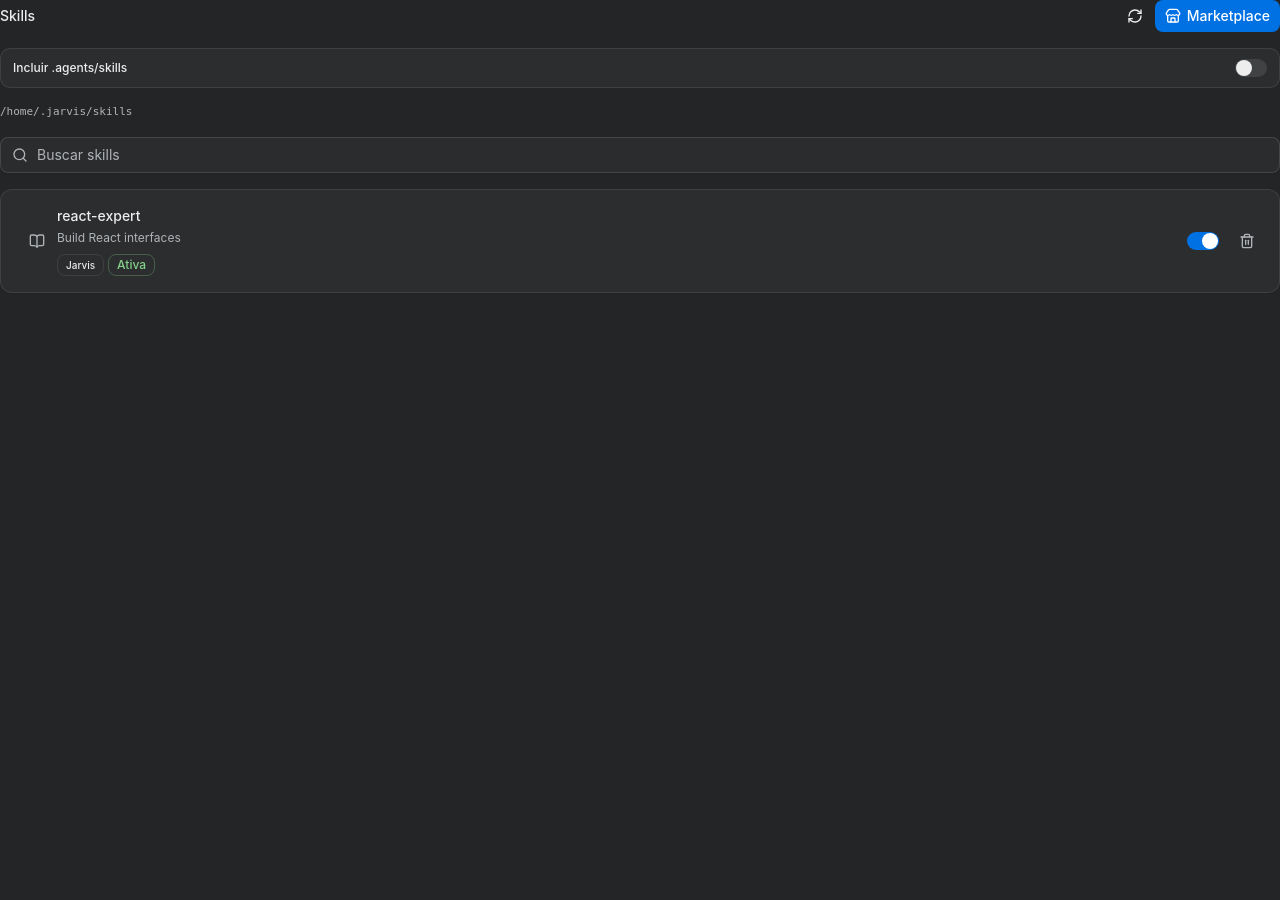
Test: SkillsSettings › abre instruções na modal e desativa sem remover a skill
The image size is (1280, 900).
Click the button with aria-label "Detalhes de react-expert" at (99, 215), box [17,206,1175,276]
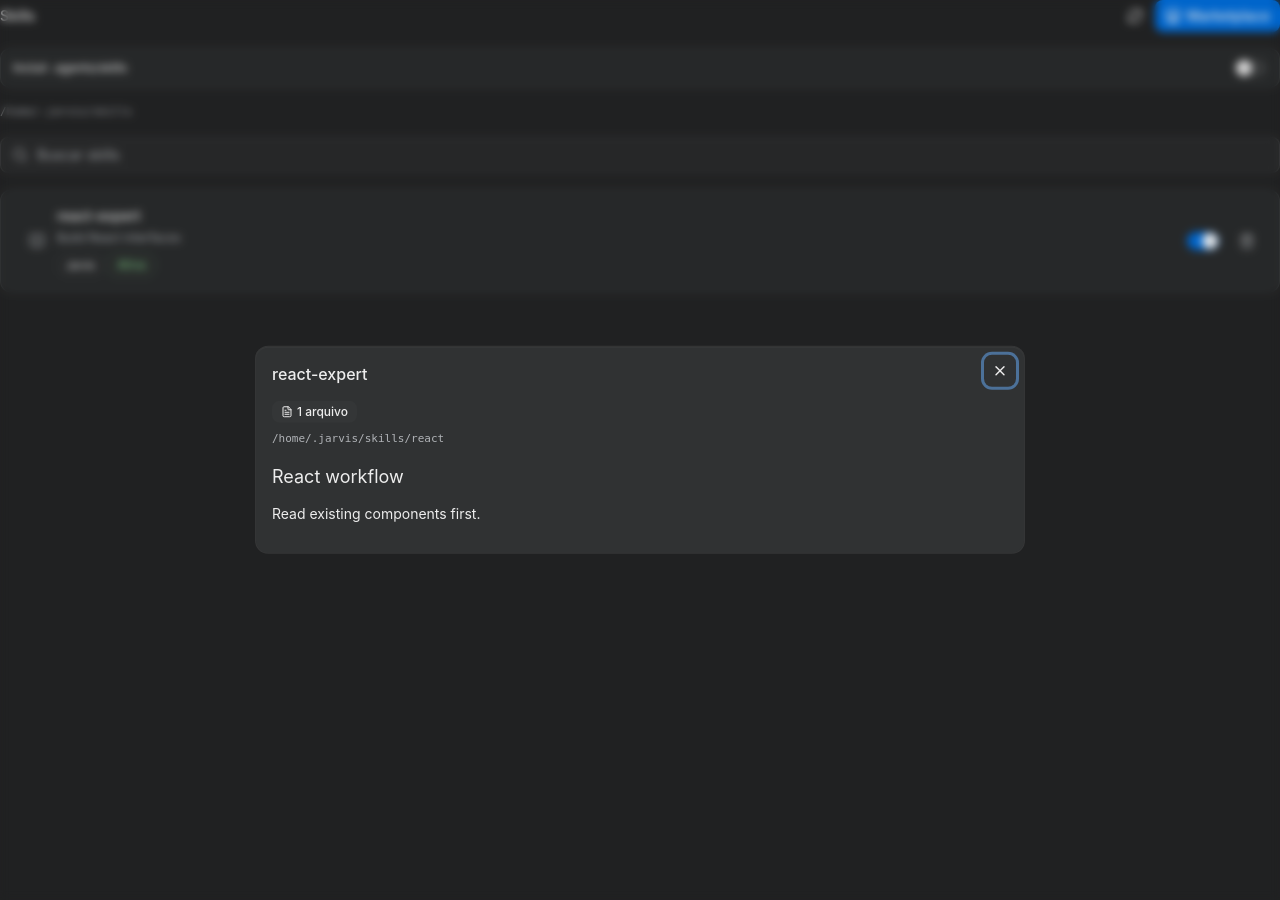
Result: the text "Read existing components first." is shown at [272,504,480,522]
Click the button named "Close" at (1000, 371), box [984,355,1016,387]
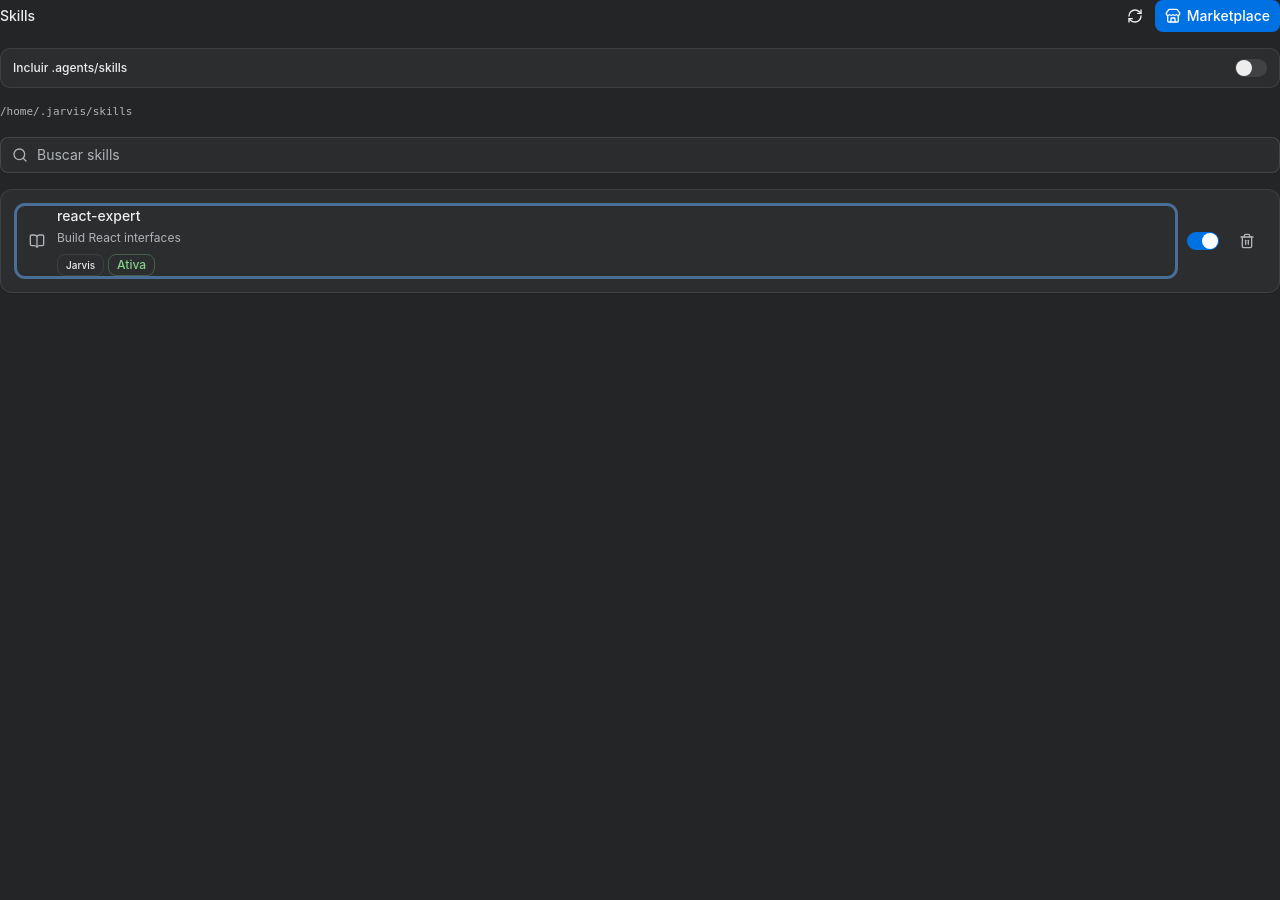
Click the switch named "Ativar react-expert" at (1203, 241), box [1187,232,1219,250]
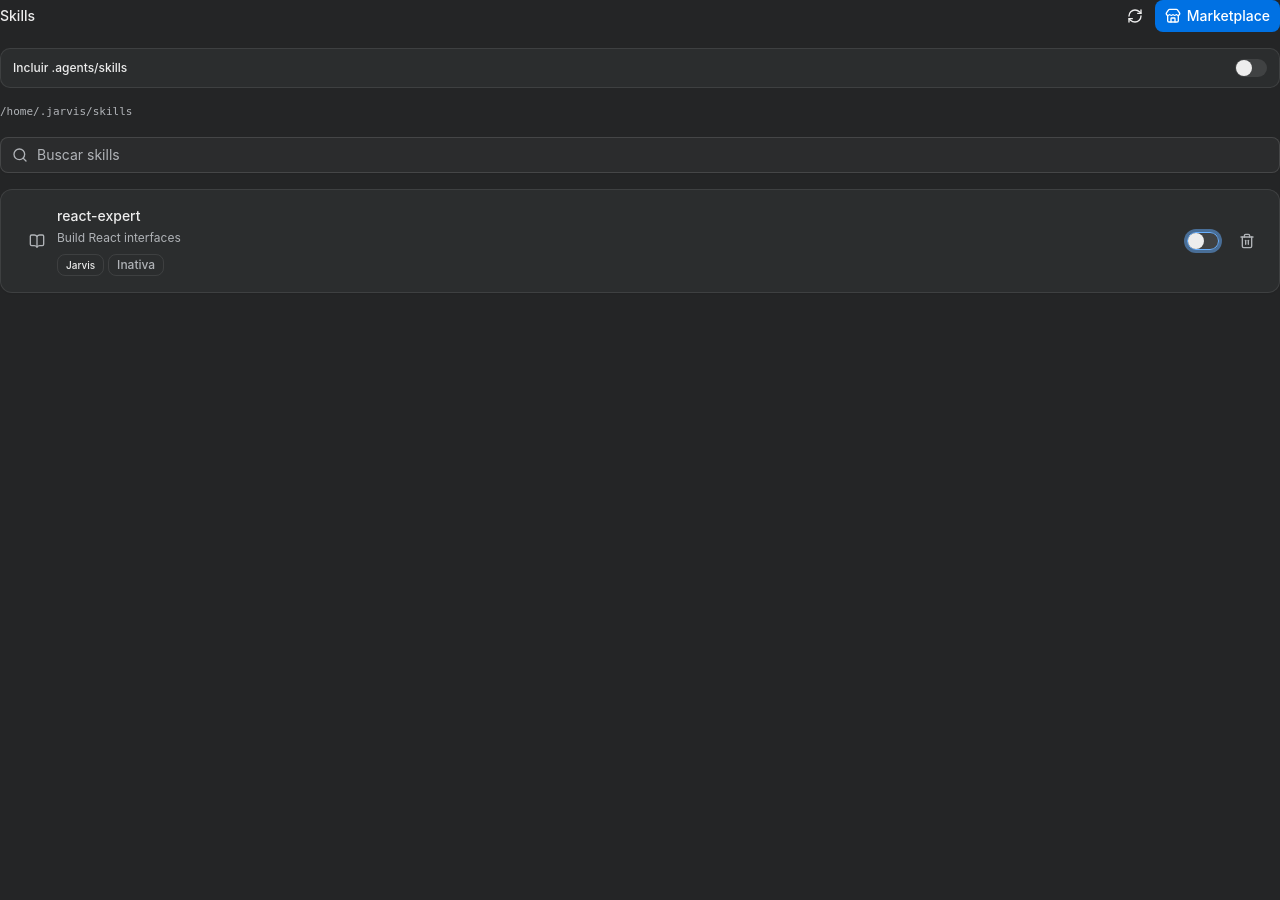
Result: the switch named "Ativar react-expert" is not checked at [1187,232,1219,250]
Result: the text "Inativa" is shown at [108,254,164,276]
